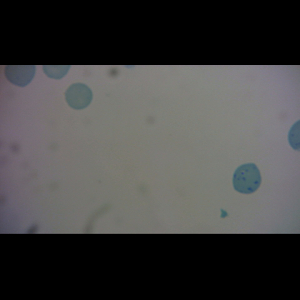aggregate reticulocyte: (232, 161, 262, 195)
erythrocyte: (63, 82, 94, 111)
